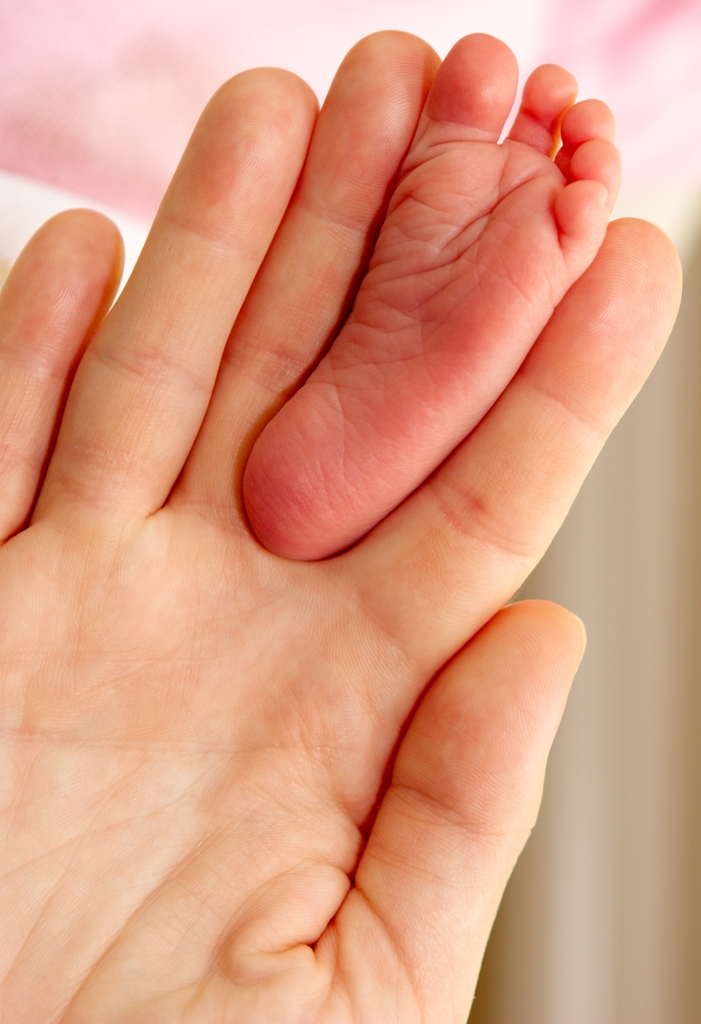Person: (0, 29, 682, 1024), (243, 35, 625, 558)
